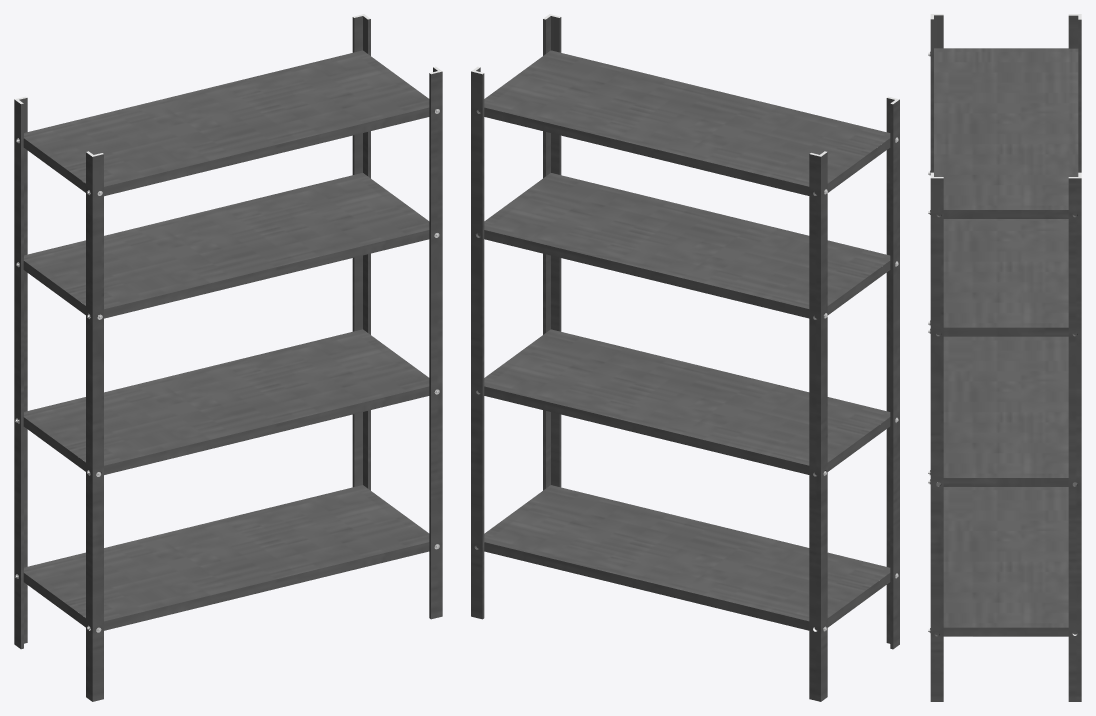
File: ANAQUEL LISO AL120.gltf
3 views of the same model, side by side, from view 1: azimuth 30°, elevation 25°; view 2: azimuth 150°, elevation 25°; view 3: azimuth 270°, elevation 25° (orthographic). The views are drawn at different scales.
Parts seen in each view (by area): view 1: node-0; view 2: node-0; view 3: node-0.
Boxes of the visible parts, x1=… form: node-0: x1=14, y1=14, x2=442, y2=701; node-0: x1=471, y1=14, x2=899, y2=701; node-0: x1=928, y1=14, x2=1081, y2=701.
Bounding box in the file's own units: 1.22 × 1.8 × 0.477.
Materials: 5 (2 with a texture image).
